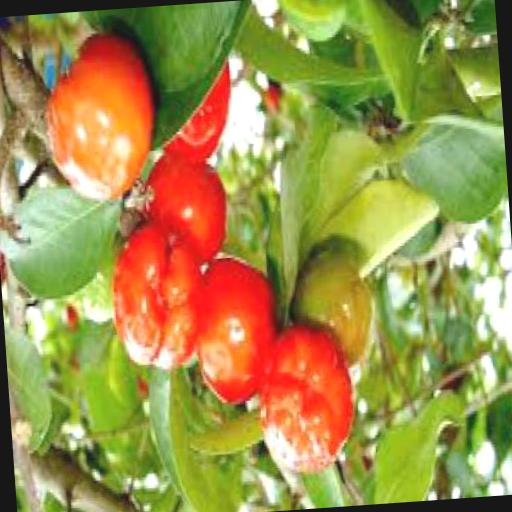biodegradable: (42, 27, 164, 209), (251, 322, 357, 478), (106, 228, 208, 378), (190, 262, 276, 407), (288, 245, 375, 371), (136, 158, 228, 272), (158, 54, 234, 168), (263, 84, 280, 117), (62, 313, 76, 336), (138, 385, 146, 402)
